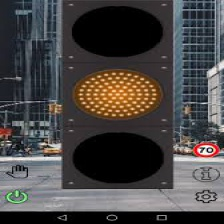semaforo: (61, 1, 174, 189)
